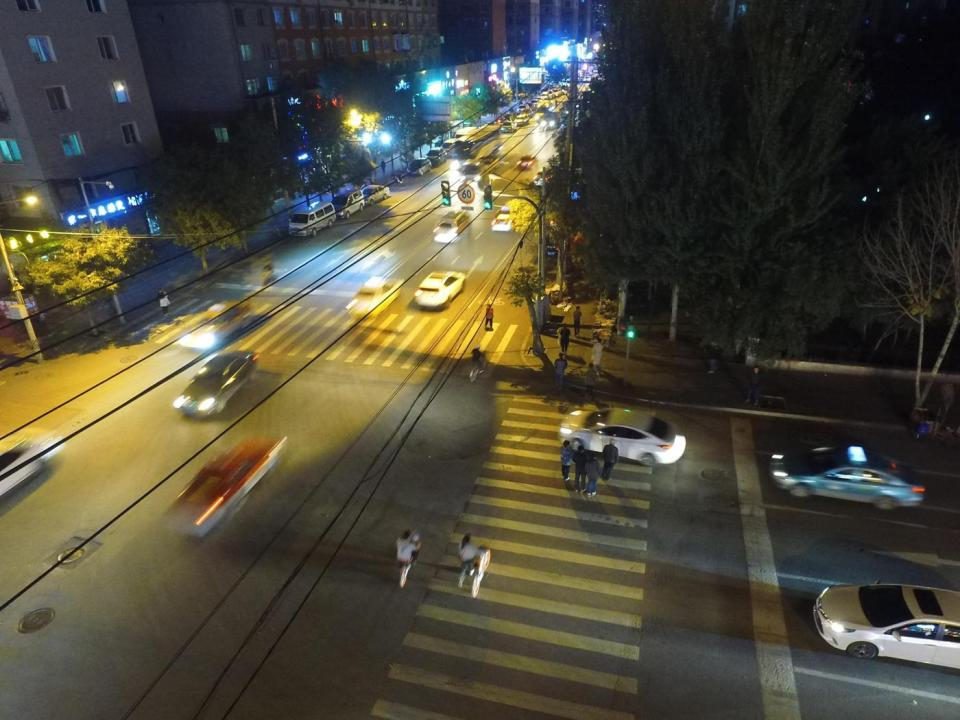bus: (455, 124, 503, 165)
car: (167, 432, 287, 538), (813, 583, 960, 668), (770, 446, 927, 509), (560, 408, 686, 467), (173, 349, 258, 421), (2, 428, 66, 506), (182, 300, 253, 347), (345, 274, 402, 318), (414, 272, 468, 312), (492, 204, 517, 233), (364, 184, 390, 204), (407, 157, 432, 176), (426, 147, 446, 165), (542, 111, 558, 128), (518, 156, 538, 168), (502, 122, 516, 134), (516, 113, 528, 127), (516, 103, 530, 114)
van: (289, 200, 337, 237), (435, 210, 470, 243), (334, 190, 364, 218), (444, 138, 456, 155)
